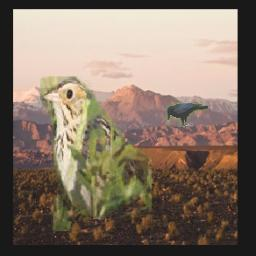Crow: (167, 103, 209, 128)
Sparrow: (41, 76, 153, 231)
